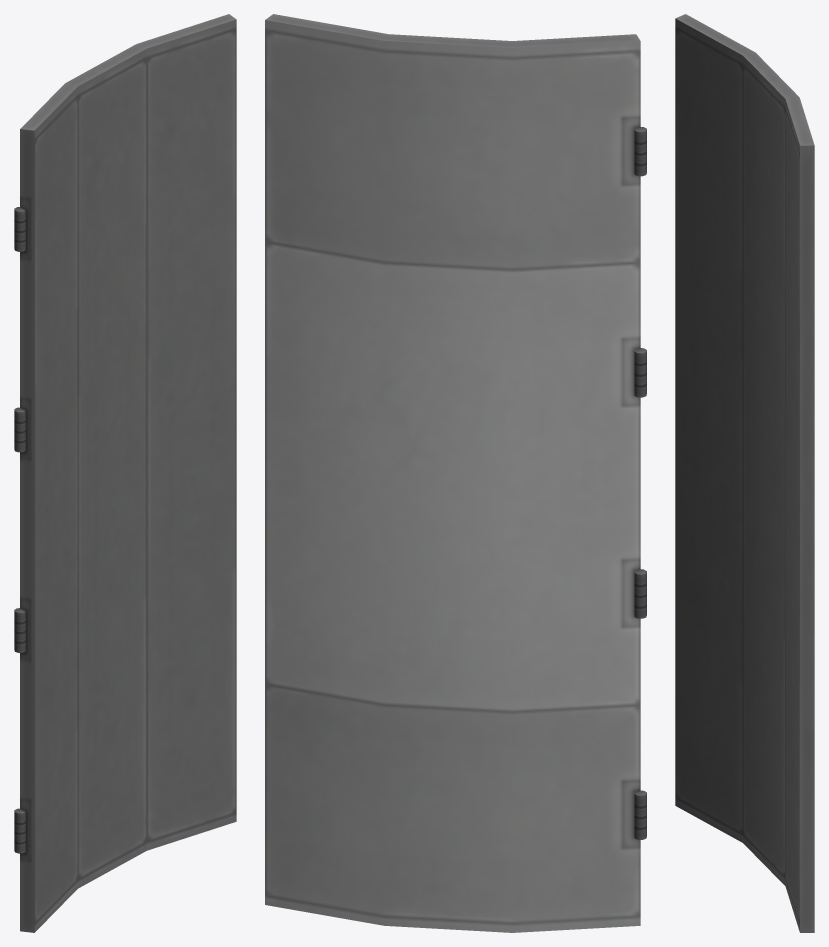
Rendered from Alniyat_CargoBay_2_Door_R.obj.
3 views of the same model, side by side, from view 1: azimuth 30°, elevation 25°; view 2: azimuth 150°, elevation 25°; view 3: azimuth 270°, elevation 25° (orthographic). The views are drawn at different scales.
Parts seen in each view (by area): view 1: Alniyat_CargoBay_2_Door_R; view 2: Alniyat_CargoBay_2_Door_R; view 3: Alniyat_CargoBay_2_Door_R.
Boxes of the visible parts, x1=… form: Alniyat_CargoBay_2_Door_R: x1=14, y1=14, x2=236, y2=932; Alniyat_CargoBay_2_Door_R: x1=265, y1=14, x2=646, y2=932; Alniyat_CargoBay_2_Door_R: x1=675, y1=14, x2=814, y2=932.
Size of the model in its own units: 0.6754 by 1.85 by 0.2967.
